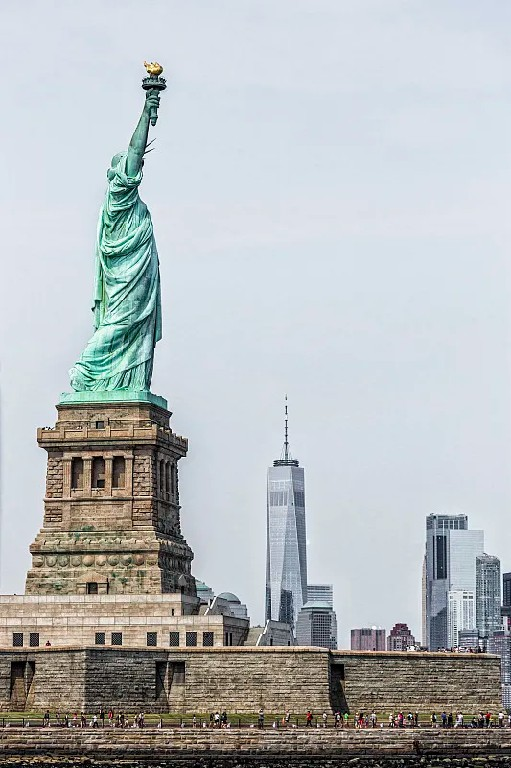SL: (24, 61, 195, 594)
